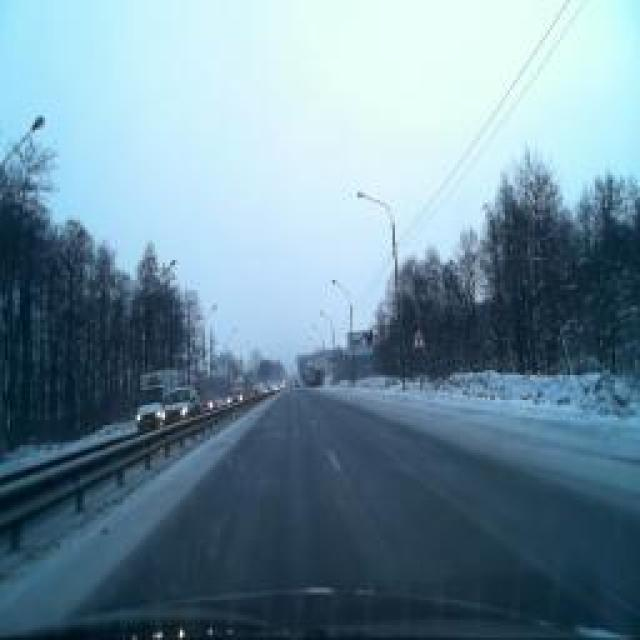sign: (413, 328, 425, 350)
